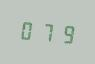nine: (57, 20, 75, 46)
seven: (38, 19, 56, 44)
zero: (18, 17, 36, 43)
